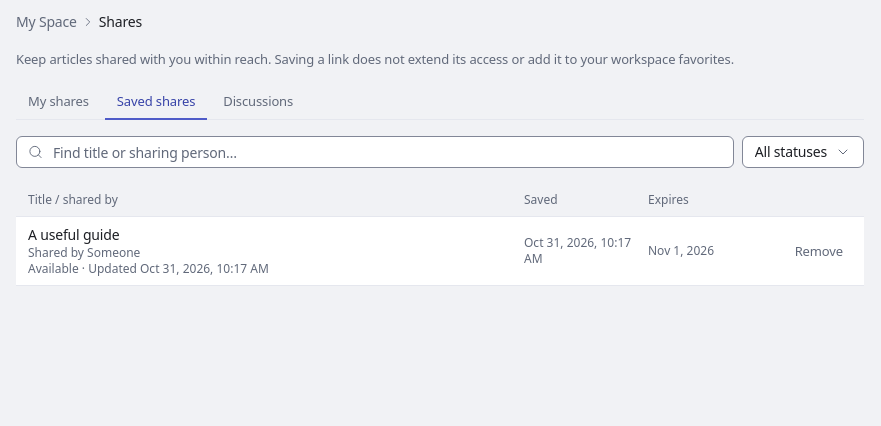
Scenario: failed removal keeps the row and successful retry removes it
This screenshot has width=881, height=426.
Step 1. Click the button with aria-label "Remove saved share: A useful guide" → x=819, y=251, box [786,239,852,263]
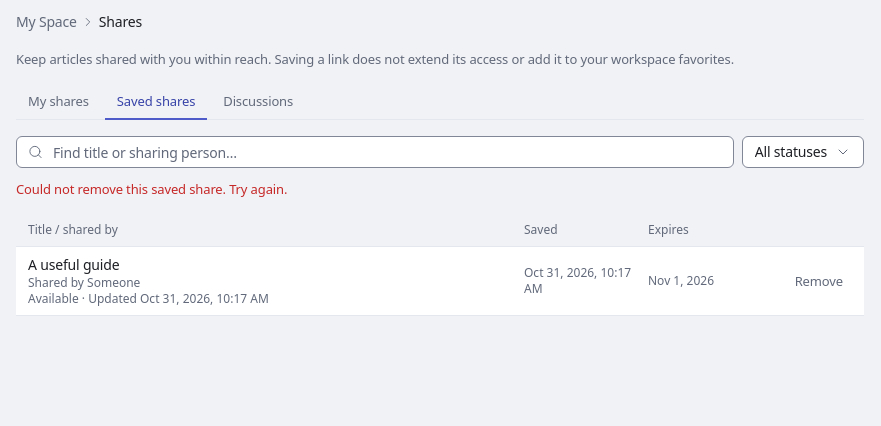
Expected: the text "A useful guide" is shown, [28,255,119,275]
Expected: the text "Could not remove" is shown, [16,180,287,198]
Step 2. Click the button with aria-label "Remove saved share: A useful guide" → x=819, y=281, box [786,269,852,293]
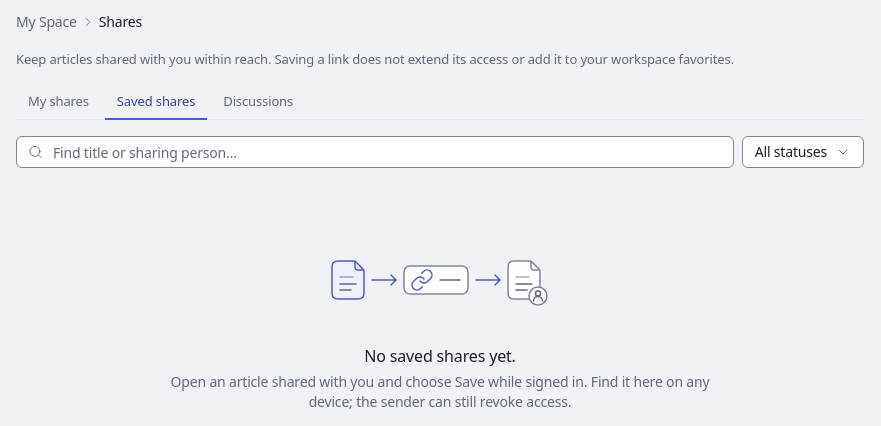
Expected: the text "A useful guide" is gone
Expected: the text "No saved shares yet" is shown, [364,345,516,367]
